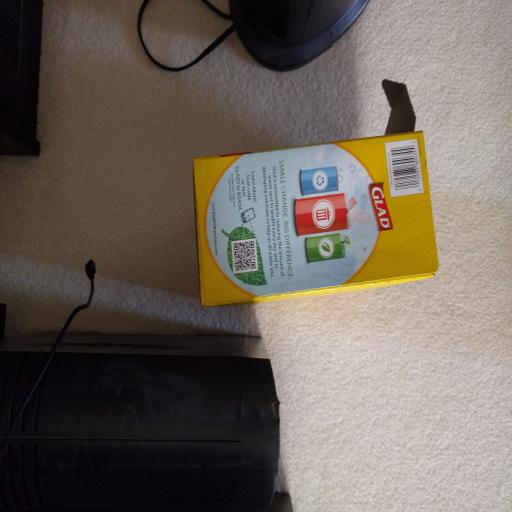QR_CODE: (228, 232, 263, 286)
